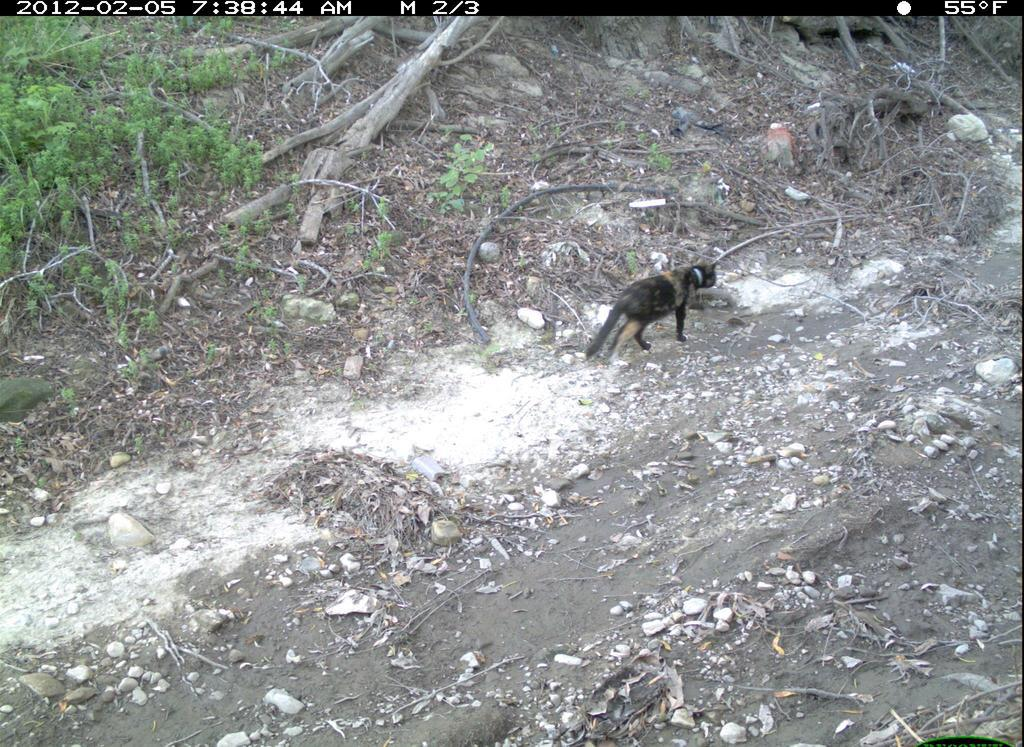cat: (583, 248, 733, 382)
